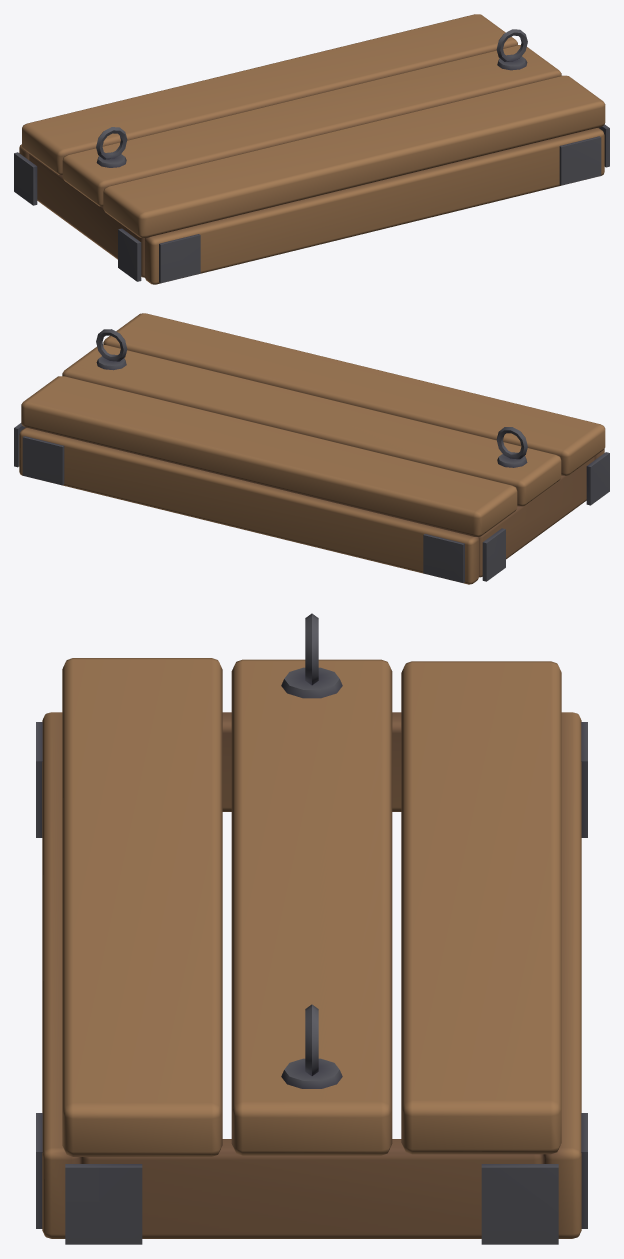
File: SwingSeat.fbx
3 views of the same model, one above another, from view 1: azimuth 30°, elevation 25°; view 2: azimuth 150°, elevation 25°; view 3: azimuth 270°, elevation 25° (orthographic). The views are drawn at different scales.
Parts seen in each view (by area): view 1: SwingSeat; view 2: SwingSeat; view 3: SwingSeat.
Part boxes in pixels (left/top/right/bottom): SwingSeat: left=14, top=14, right=609, bottom=284; SwingSeat: left=14, top=313, right=609, bottom=584; SwingSeat: left=36, top=613, right=587, bottom=1244.
Size of the model in its own units: 1.42 by 0.299 by 0.716.
